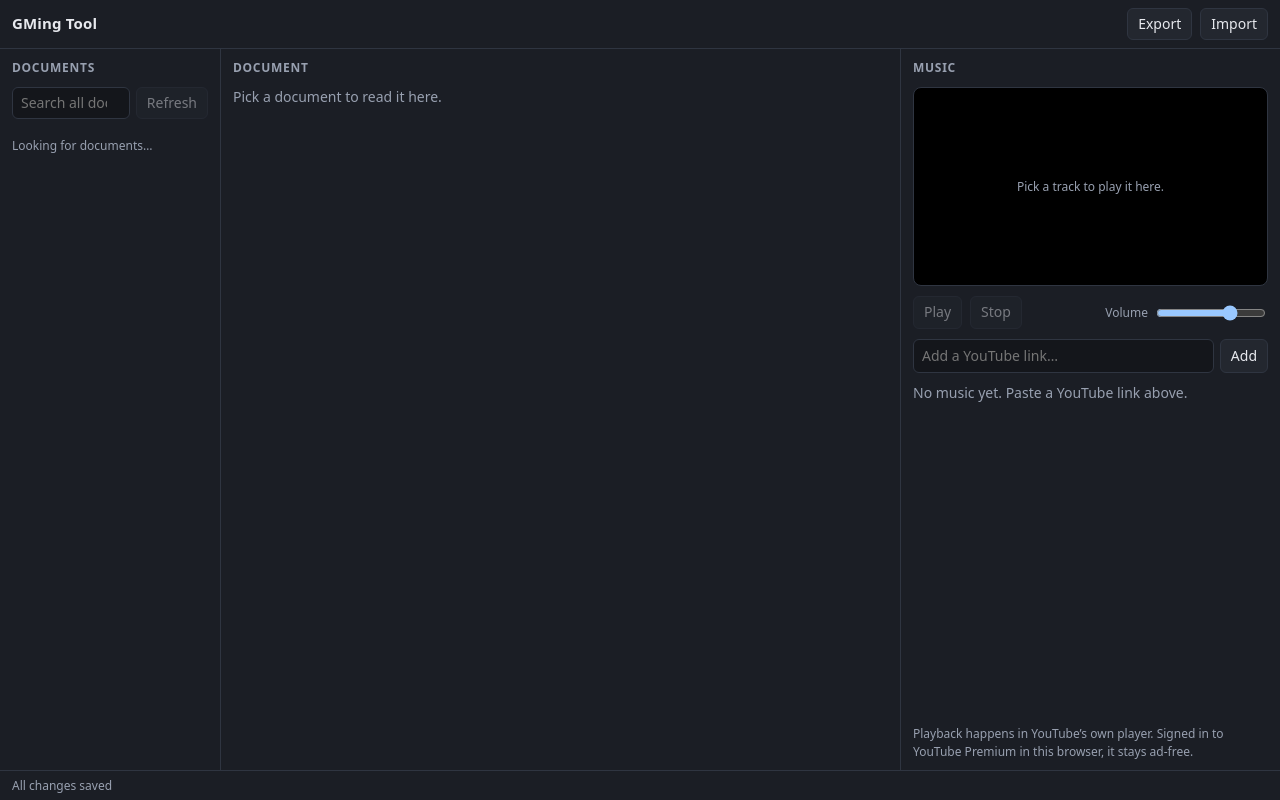
it: the GMing tool › removes a track
Type "https://youtu.be/dQw4w9WgXcQ" into the field labelled "YouTube link".
click(1063, 356); type("https://youtu.be/dQw4w9WgXcQ")  # box [913,339,1214,373]
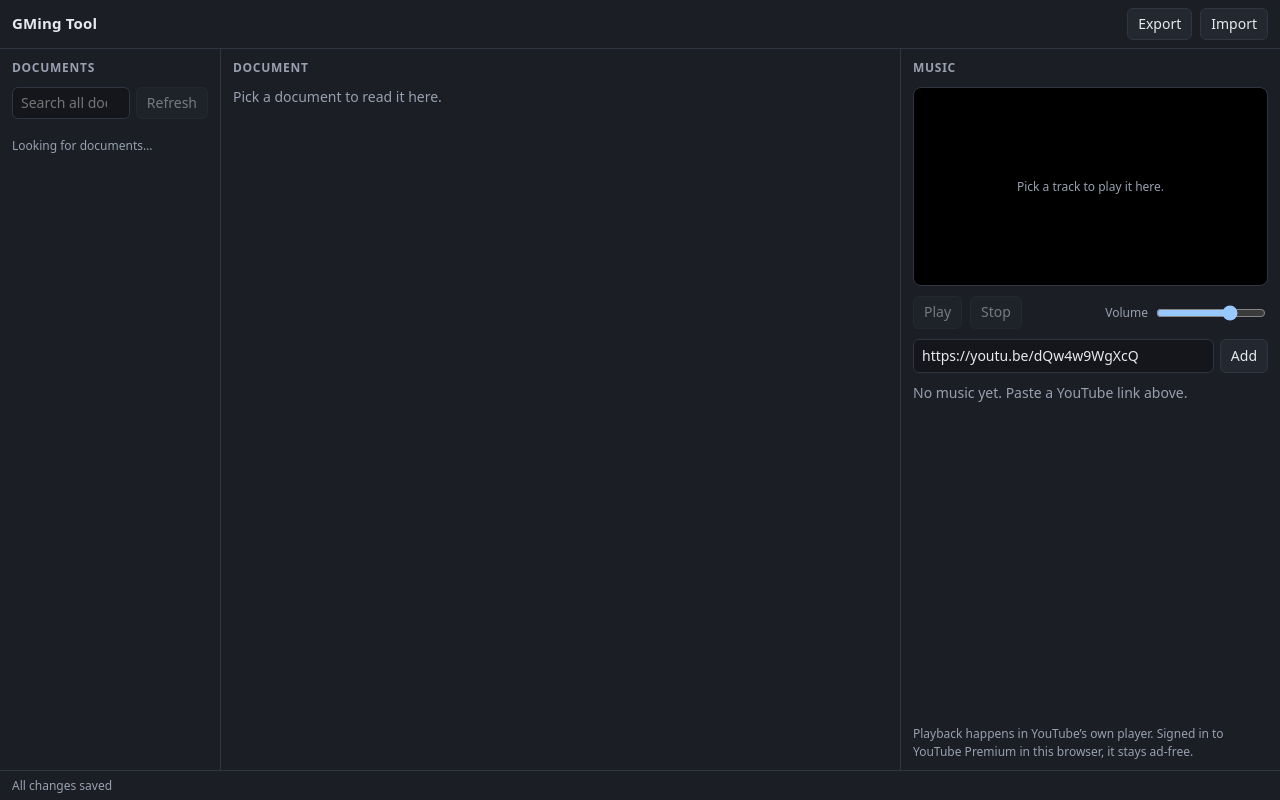
Click the button "Add".
click(1244, 356)  # box [1220,339,1268,373]
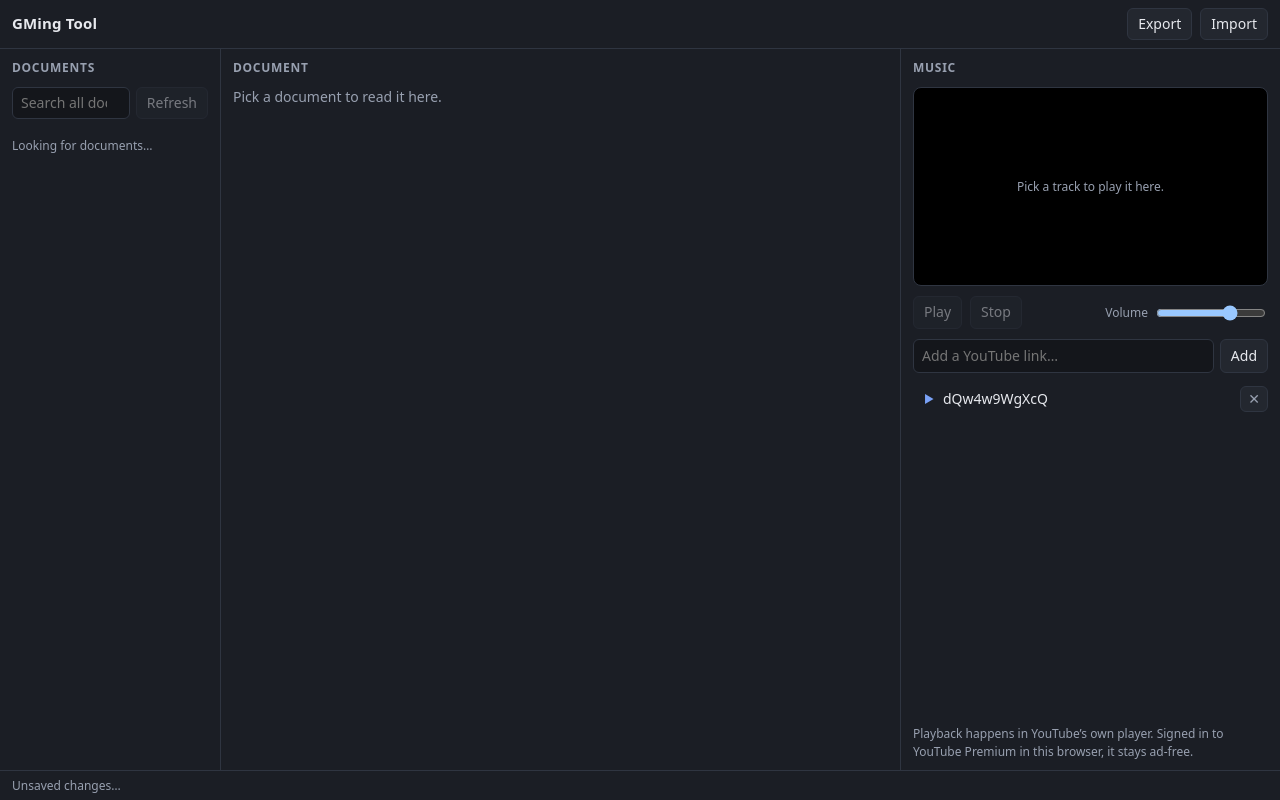
Type "https://youtu.be/aaaaaaaaaaa" into the field labelled "YouTube link".
click(1063, 356); type("https://youtu.be/aaaaaaaaaaa")  # box [913,339,1214,373]
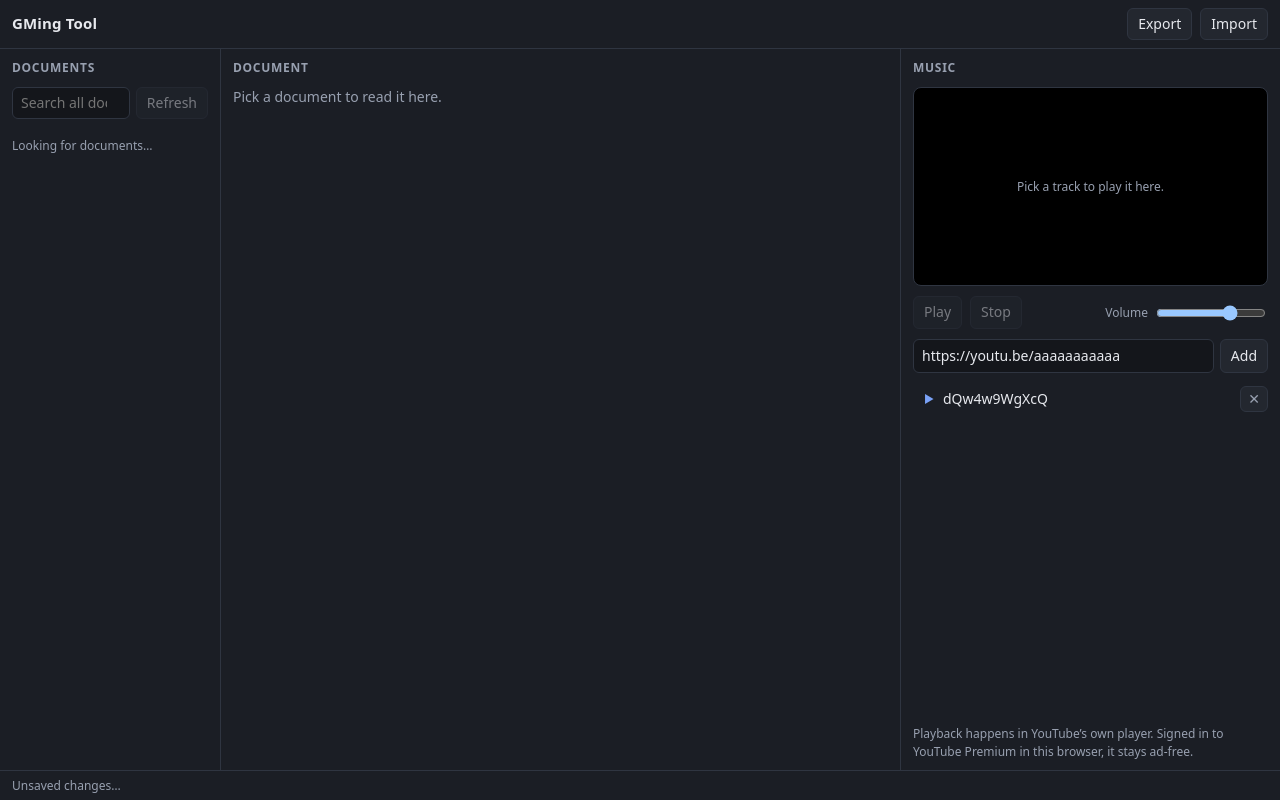
Click the button "Add".
click(1244, 356)  # box [1220,339,1268,373]
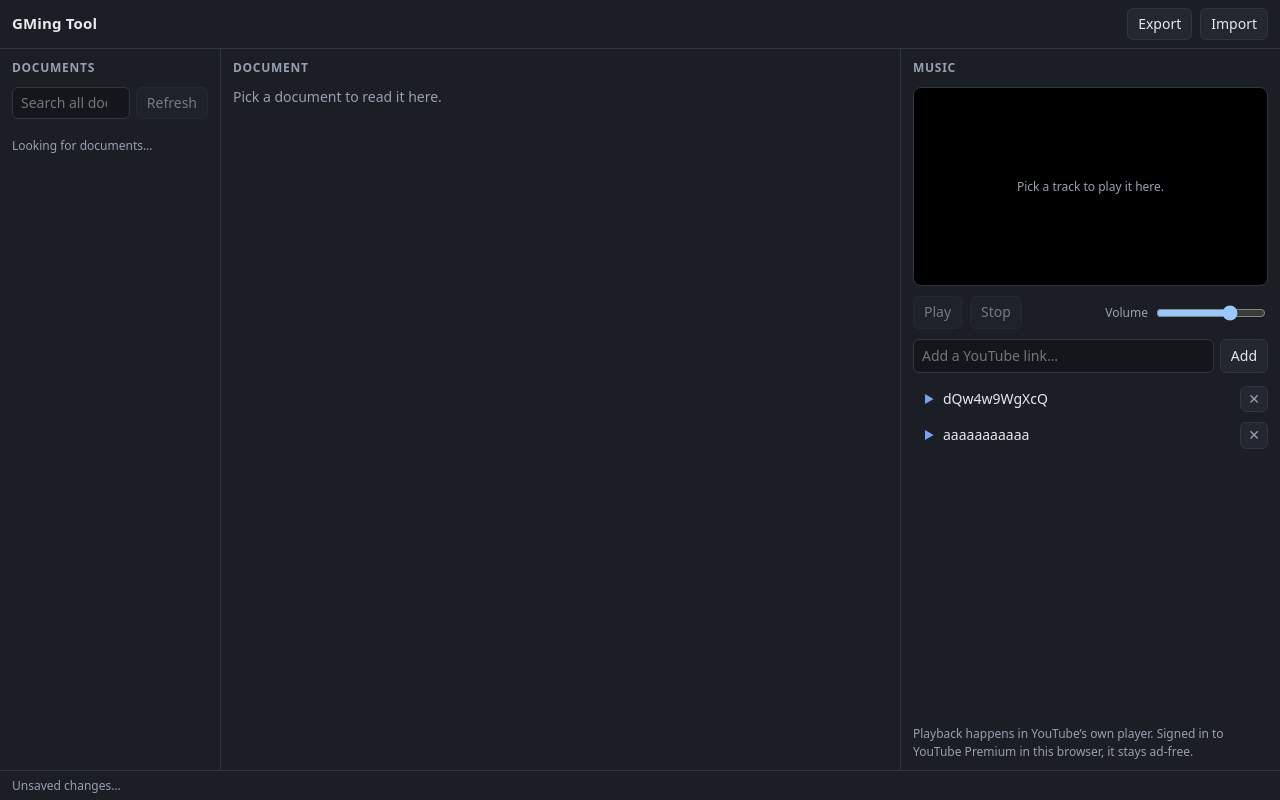
Click the 1st button "✕".
click(1254, 399)  # box [1240,386,1268,412]
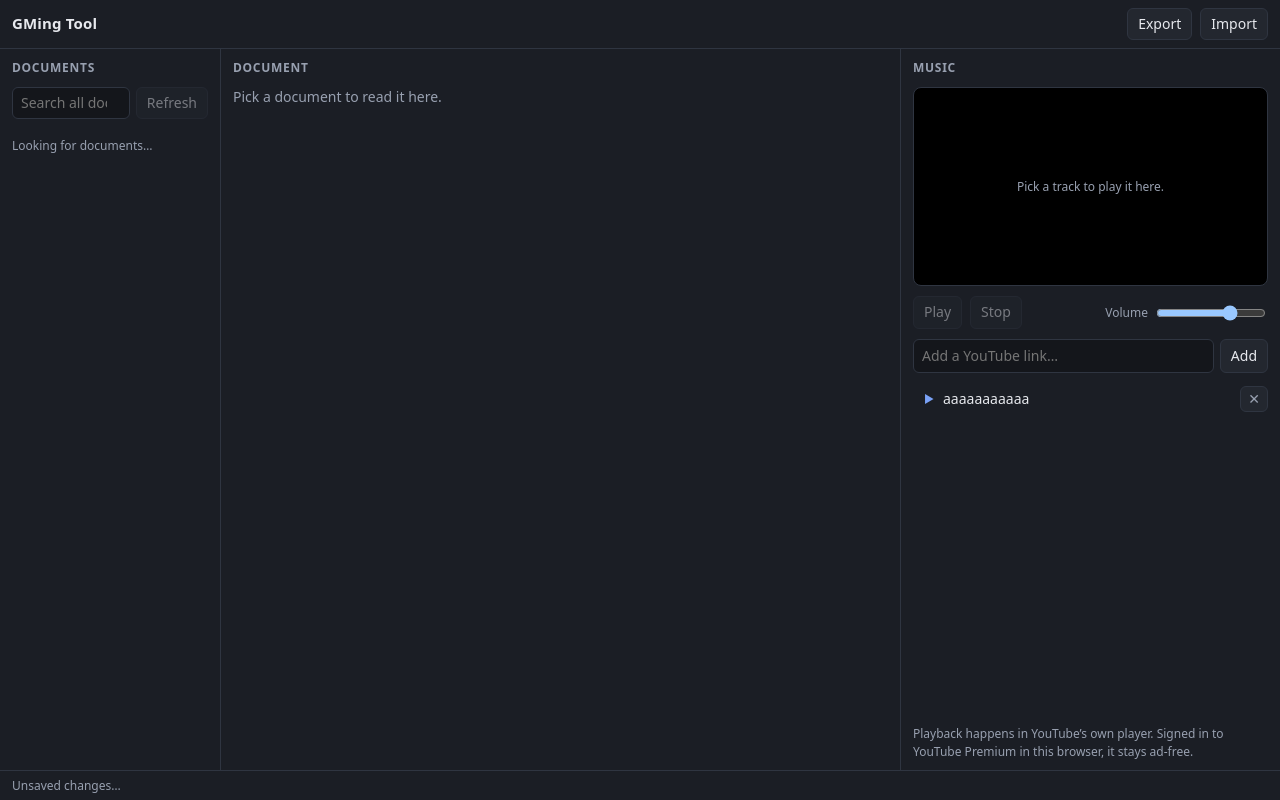
Result: the button "▶ aaaaaaaaaaa" is shown at [913,383,1236,415]
Result: the button "dQw4w9WgXcQ" is gone
